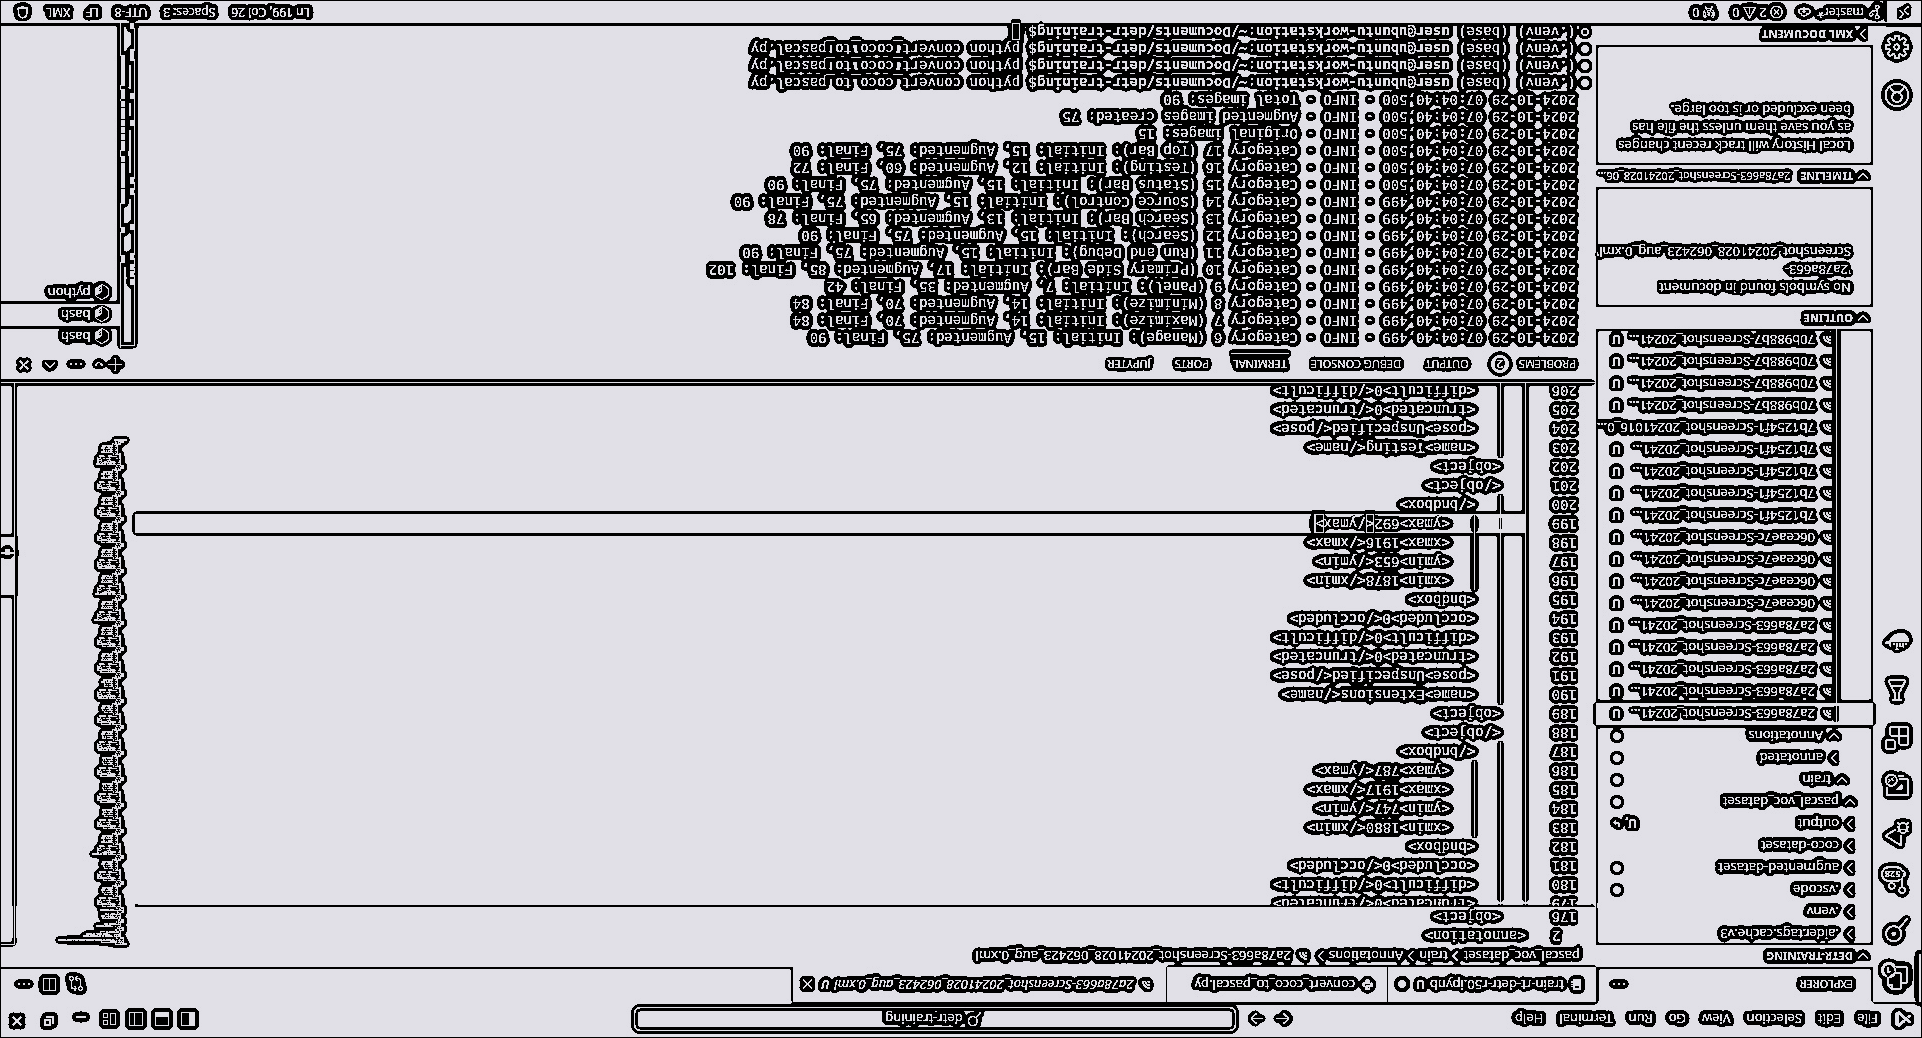Accounts: (1879, 79, 1918, 112)
Activity Bar: (1877, 26, 1922, 1001)
Close: (7, 1012, 31, 1037)
Editor: (3, 380, 1590, 1001)
Explorer: (1878, 961, 1915, 1001)
Extensions: (1884, 721, 1918, 757)
Manage: (1879, 29, 1918, 68)
Maximize: (36, 1012, 64, 1034)
Minimize: (70, 1010, 94, 1034)
Panel: (3, 21, 1594, 382)
Primary Side Bar: (1594, 22, 1879, 998)
Run and Debug: (1879, 815, 1916, 855)
Search: (1881, 911, 1915, 951)
Search Bar: (629, 1002, 1242, 1035)
Source Control: (1879, 859, 1918, 905)
Status Bar: (3, 3, 1921, 24)
Testing: (1881, 676, 1918, 710)
Top Bar: (3, 1001, 1919, 1037)
